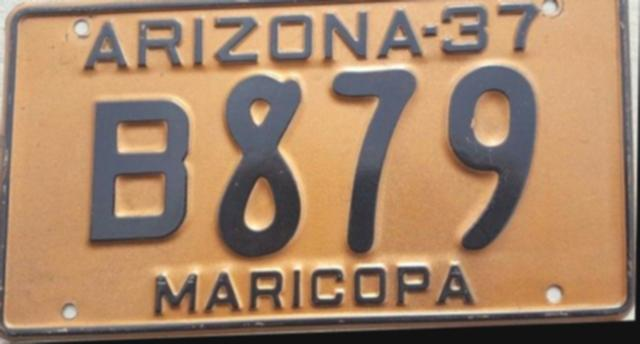License_Plate: (3, 0, 632, 335)
